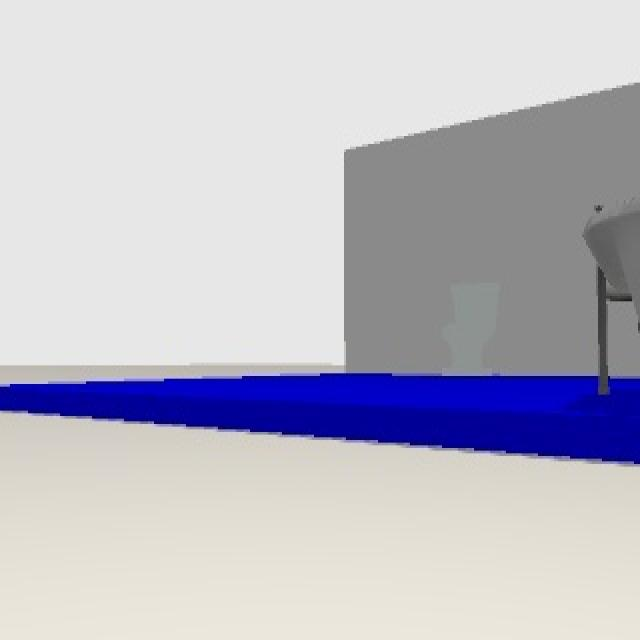bathtub: (580, 200, 638, 400)
